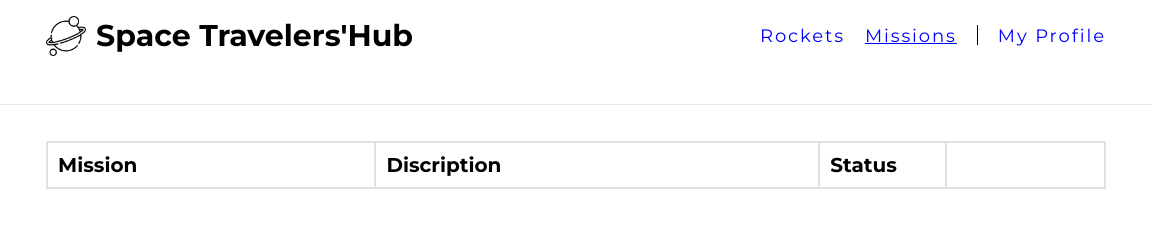
Test: simulate navigating  through My Profile link
Step 1. Click the link "My Profile" → (1052, 36), box [998, 24, 1106, 46]
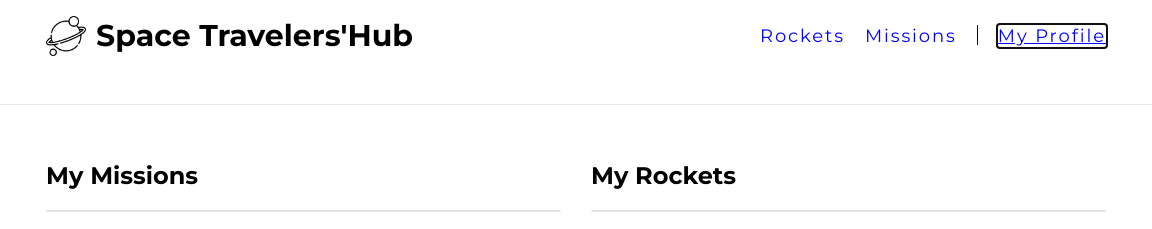
Now the element with test id "momo-id" is shown, box [46, 141, 1106, 212]
